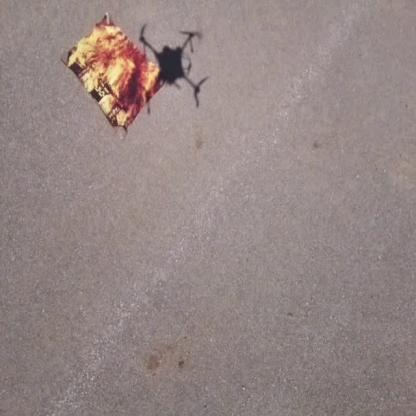fire-poster: (60, 11, 166, 140)
